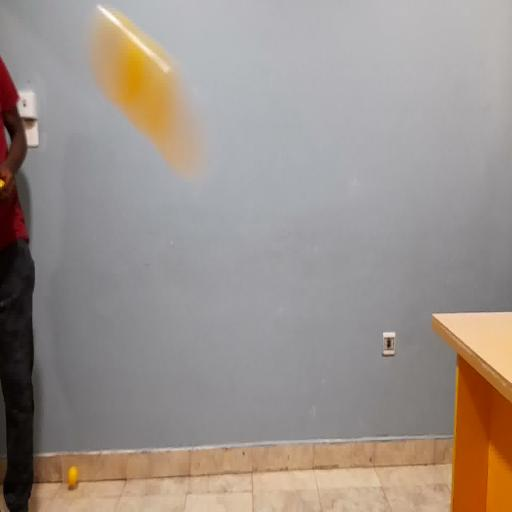plastic-ball: (91, 7, 200, 176)
